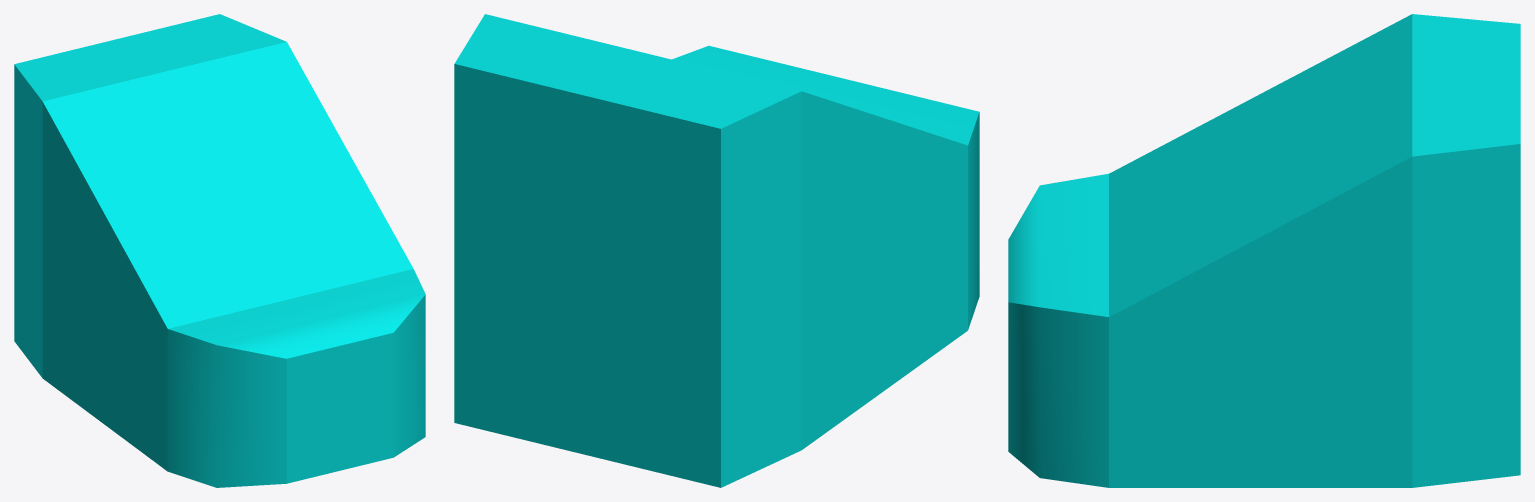
The model's file is SM_Env_Rock_Stairs_04_Collision.fbx.
The picture shows the model from 3 angles, left to right: view 1: azimuth 30°, elevation 25°; view 2: azimuth 150°, elevation 25°; view 3: azimuth 270°, elevation 25°; orthographic projection. The views are drawn at different scales.
Visible parts, largest first — view 1: SM_Env_Rock_Stairs_04_Collision; view 2: SM_Env_Rock_Stairs_04_Collision; view 3: SM_Env_Rock_Stairs_04_Collision.
Boxes of the visible parts, x1,y1,x2,y2 form: SM_Env_Rock_Stairs_04_Collision: (14,14,425,487); SM_Env_Rock_Stairs_04_Collision: (454,14,979,487); SM_Env_Rock_Stairs_04_Collision: (1008,14,1520,487).
Size of the model in its own units: 262 by 282 by 394.
